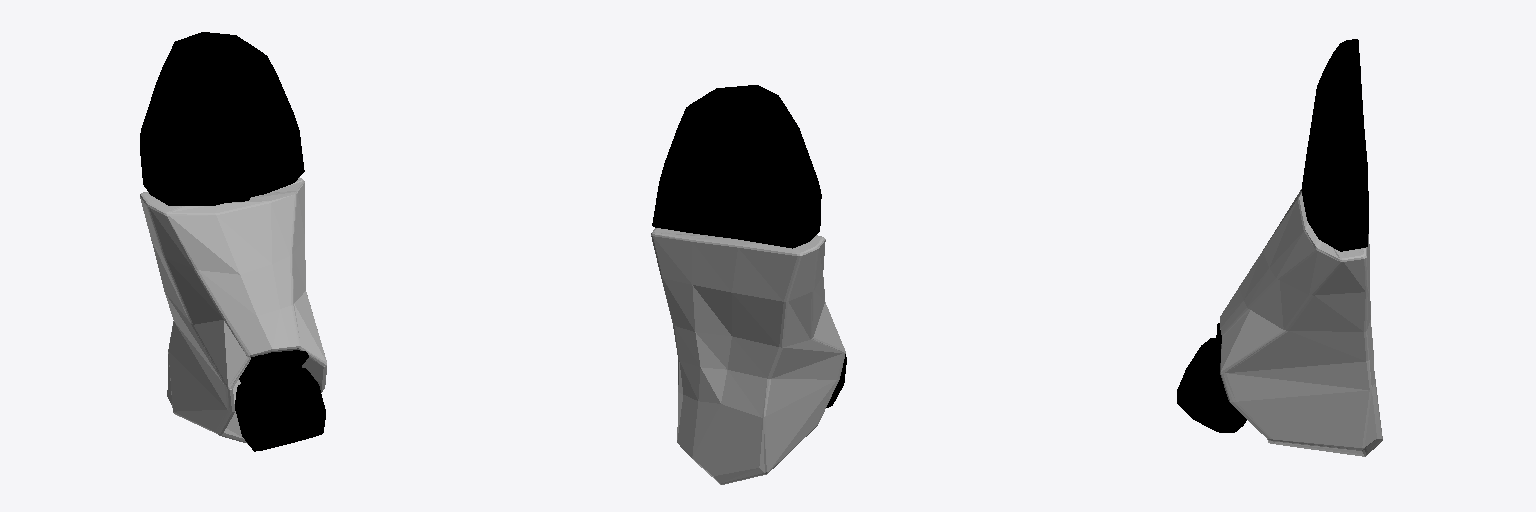
The model's file is Shoe_Right.obj.
3 views of the same model, side by side, from view 1: azimuth 30°, elevation 25°; view 2: azimuth 150°, elevation 25°; view 3: azimuth 270°, elevation 25° (orthographic).
Visible parts, largest first — view 1: shoe_right, toe_right, toe_bone_right; view 2: shoe_right, toe_right; view 3: shoe_right, toe_right, toe_bone_right.
Boxes of the visible parts, box(x1,y1,x2,y2) form: shoe_right: box(140, 177, 326, 443); toe_right: box(140, 32, 304, 205); toe_bone_right: box(229, 198, 325, 451); shoe_right: box(651, 228, 845, 484); toe_right: box(652, 85, 821, 248); shoe_right: box(1220, 189, 1382, 456); toe_right: box(1301, 39, 1368, 251); toe_bone_right: box(1177, 323, 1246, 432).
Bounding box in the file's own units: 0.8054 × 1.93 × 0.908.